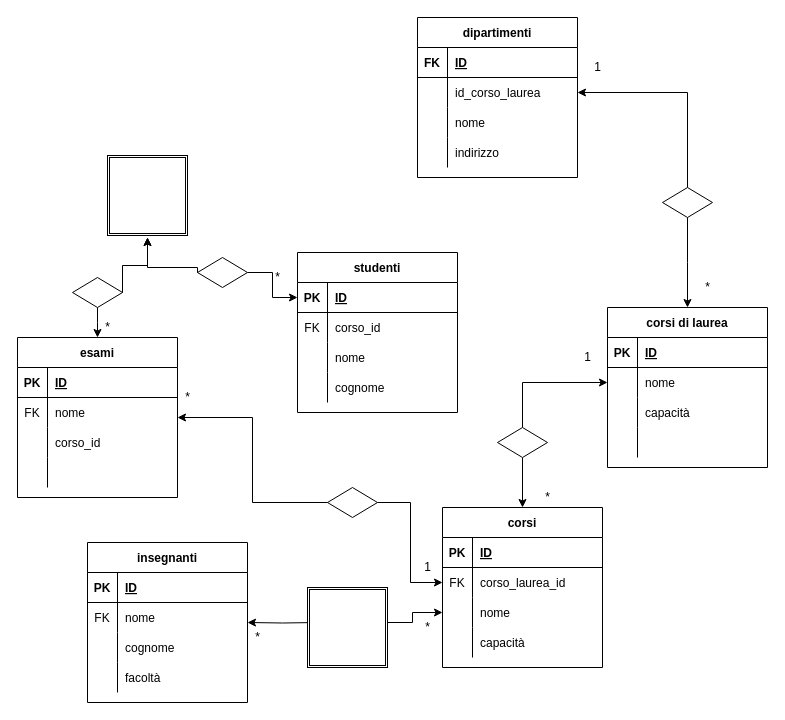
Some shapes in this 785 by 720 pixel diagram are drawn without their labels. The centre of each missing label's shape, as x and y in pixels:
"insegnante_id corso_id" goes at point 347,627.
"voti: esame_id studente_id" goes at point 147,195.
